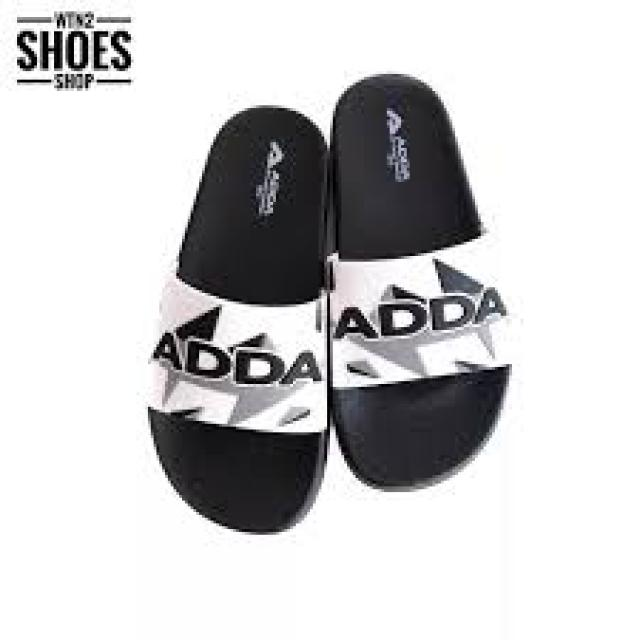shoe: (142, 70, 514, 541), (330, 72, 516, 495), (150, 100, 330, 535)
